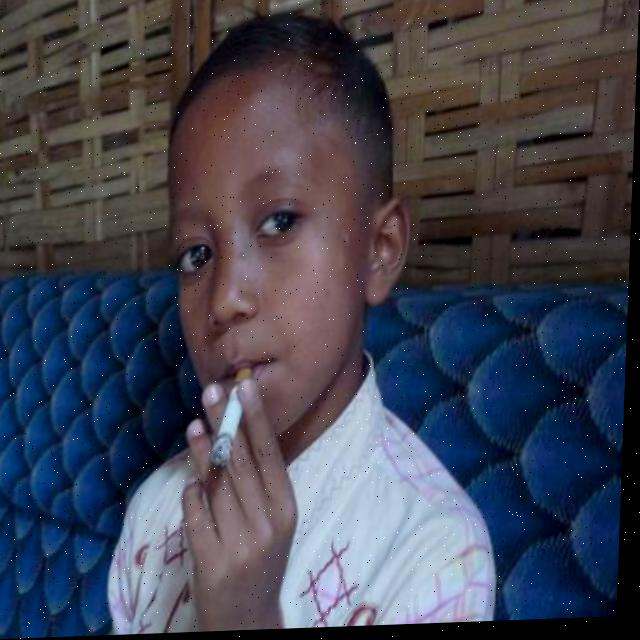cigarette: (211, 364, 260, 472)
